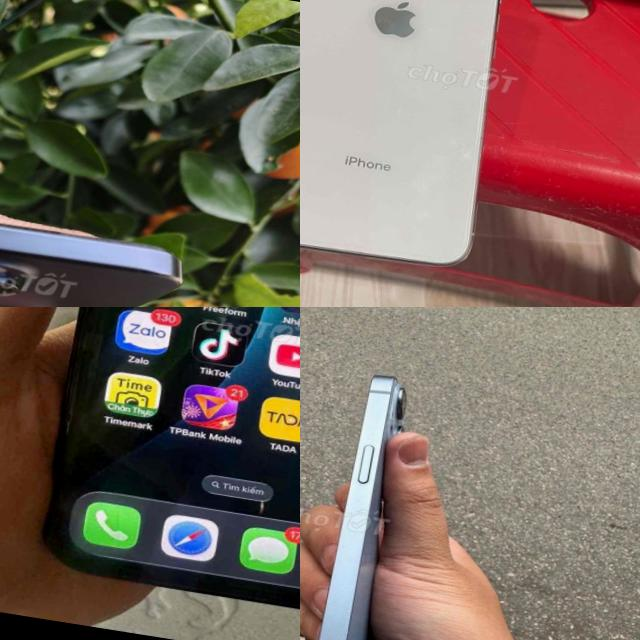gen_12_13: (24, 307, 300, 635)
gen_14: (300, 362, 453, 640)
gen_15: (0, 197, 195, 307)
gen_x_xs: (300, 0, 525, 283)
